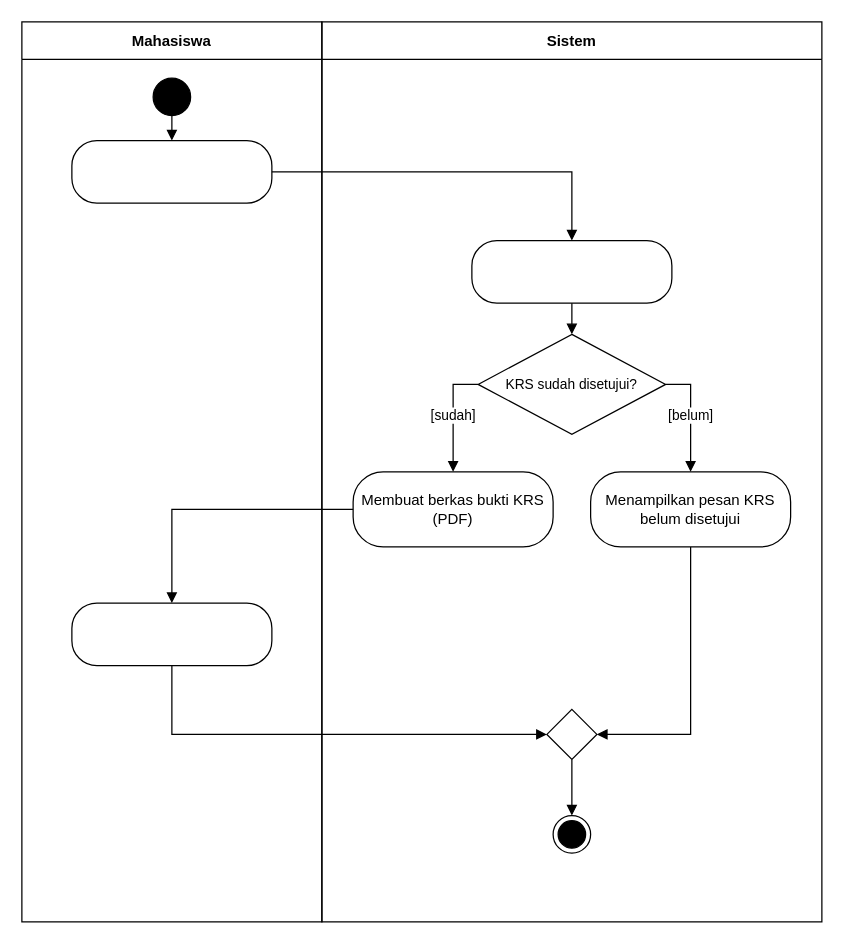
Some shapes in this 844 by 944 pixel diagram are drawn without their labels. Here are the shapes that lost their labels. From the top down, the centre of each, then its label:
point (171, 171): Memilih menu Bukti KRS
point (571, 271): Memeriksa status KRS
point (171, 634): Mengunduh bukti KRS
